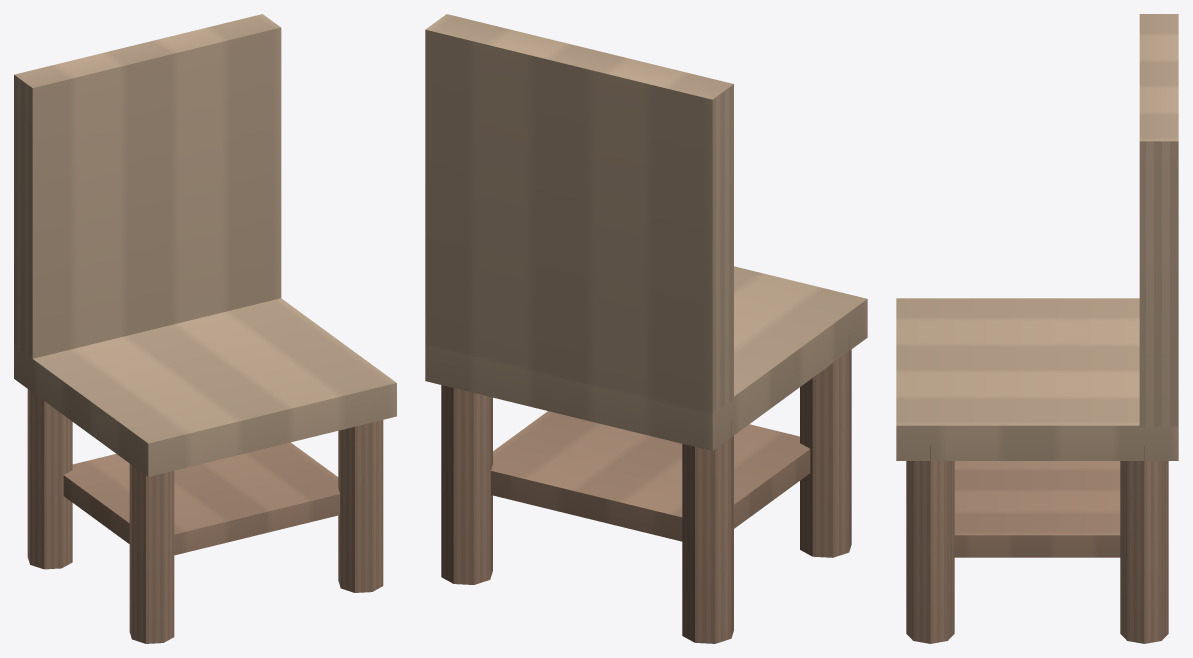
Rendered from chair_wood.glb.
The picture shows the model from 3 angles, left to right: view 1: azimuth 30°, elevation 25°; view 2: azimuth 150°, elevation 25°; view 3: azimuth 270°, elevation 25°; orthographic projection. The views are drawn at different scales.
Visible parts, largest first — view 1: chair_wood; view 2: chair_wood; view 3: chair_wood.
Boxes of the visible parts, box(x1,y1,x2,y2) form: chair_wood: box(14, 14, 396, 643); chair_wood: box(425, 14, 867, 643); chair_wood: box(896, 14, 1178, 643).
Size of the model in its own units: 0.6208 by 1.14 by 0.58.
1 material, 1 textured.
